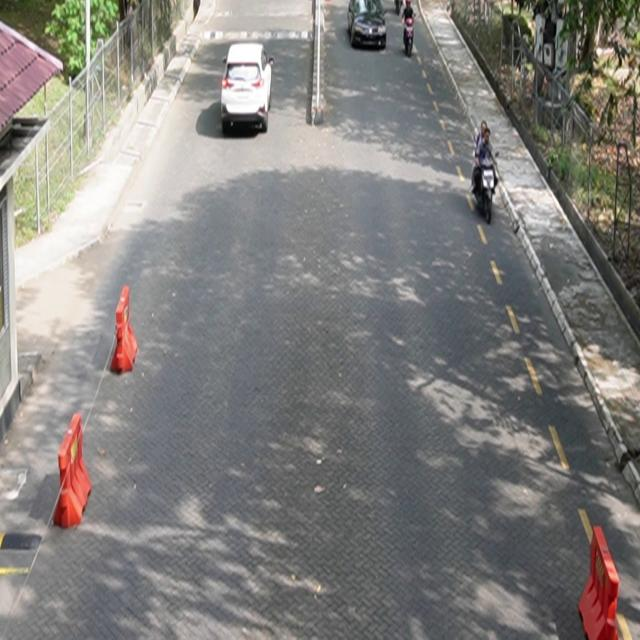car: (221, 42, 275, 134), (348, 1, 388, 50)
